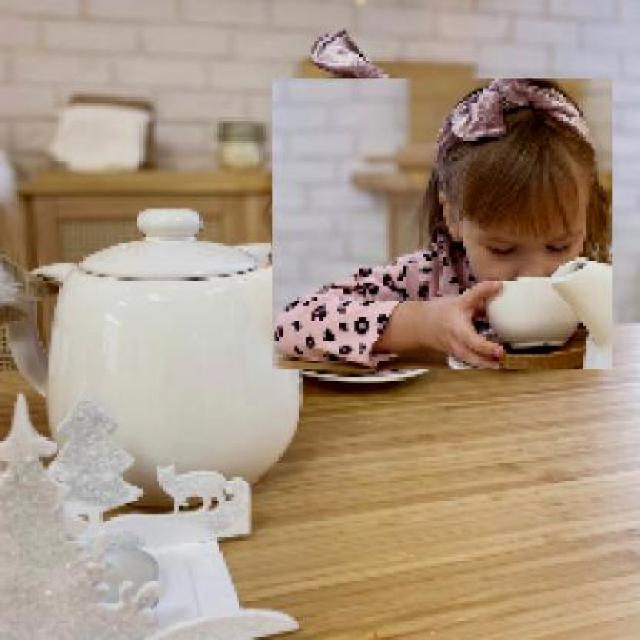child: (271, 78, 612, 371)
